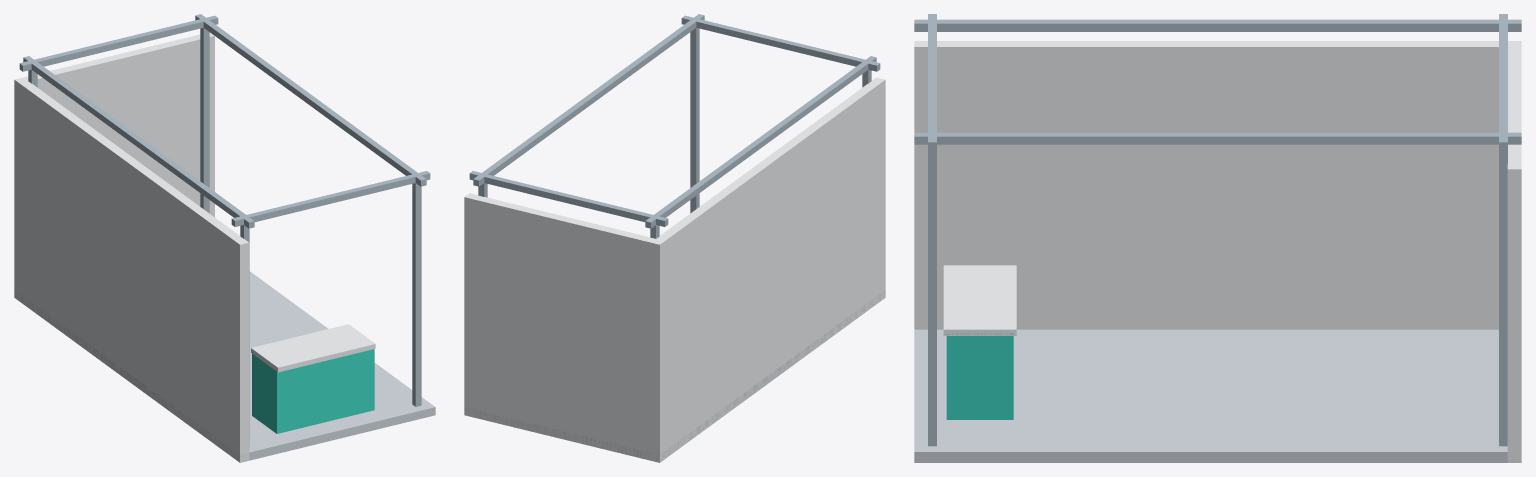
The picture shows the model from 3 angles, left to right: view 1: azimuth 30°, elevation 25°; view 2: azimuth 150°, elevation 25°; view 3: azimuth 270°, elevation 25°; orthographic projection. The views are drawn at different scales.
Visible parts, largest first — view 1: Exhibition Booth Concept; view 2: Exhibition Booth Concept; view 3: Exhibition Booth Concept.
Part boxes in pixels (x1=…): Exhibition Booth Concept: x1=14, y1=14, x2=435, y2=462; Exhibition Booth Concept: x1=464, y1=14, x2=885, y2=462; Exhibition Booth Concept: x1=914, y1=14, x2=1521, y2=462.
Bounding box in the file's own units: 3 × 3.49 × 6.
